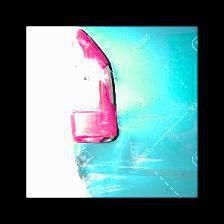tail_lamp: (73, 32, 176, 185)
